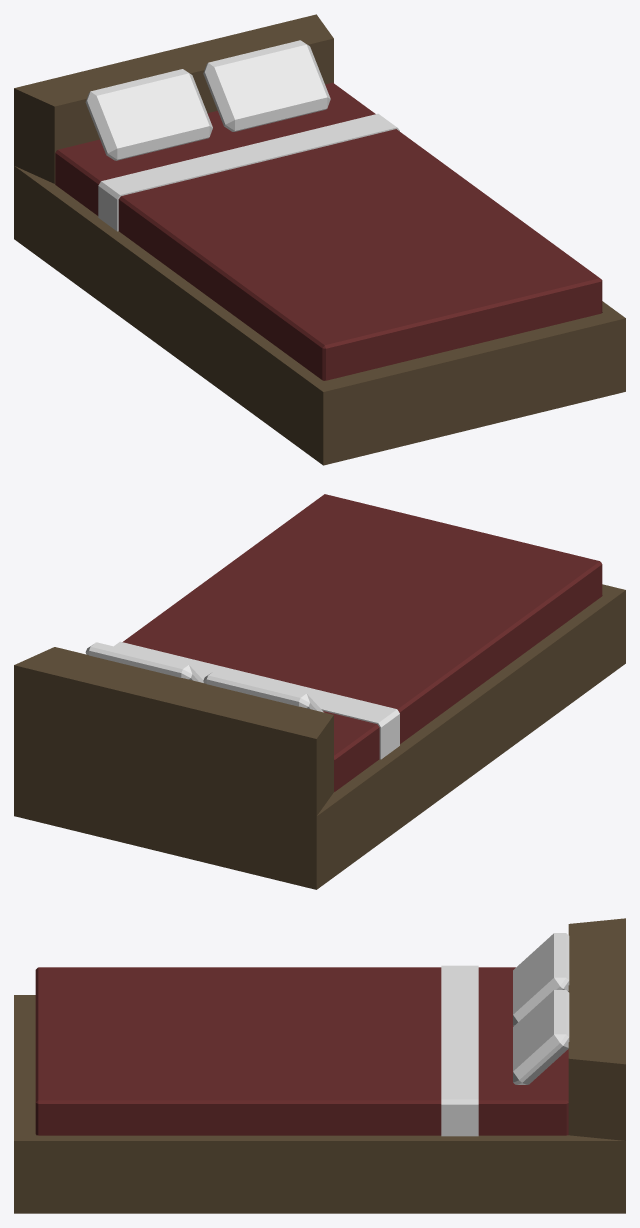
Rendered from Bed.fbx.
3 views of the same model, one above another, from view 1: azimuth 30°, elevation 25°; view 2: azimuth 150°, elevation 25°; view 3: azimuth 270°, elevation 25° (orthographic).
Parts seen in each view (by area): view 1: Bed, PillowB, PillowA; view 2: Bed, PillowA, PillowB; view 3: Bed, PillowB, PillowA.
Part boxes in pixels (left/top/right/bottom): Bed: left=14, top=14, right=625, bottom=465; PillowB: left=203, top=40, right=330, bottom=131; PillowA: left=85, top=69, right=212, bottom=160; Bed: left=14, top=494, right=625, bottom=889; PillowA: left=203, top=671, right=323, bottom=712; PillowB: left=85, top=642, right=203, bottom=682; Bed: left=14, top=918, right=625, bottom=1213; PillowB: left=513, top=990, right=569, bottom=1084; PillowA: left=513, top=933, right=569, bottom=1026.
Bounding box in the file's own units: 271 × 136 × 481.
